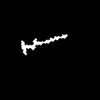double_crochet: (21, 35, 66, 54)
